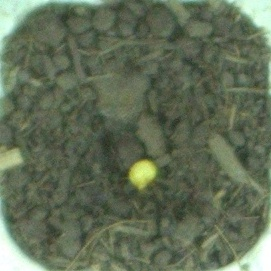pepper seed: (48, 64, 207, 254)
